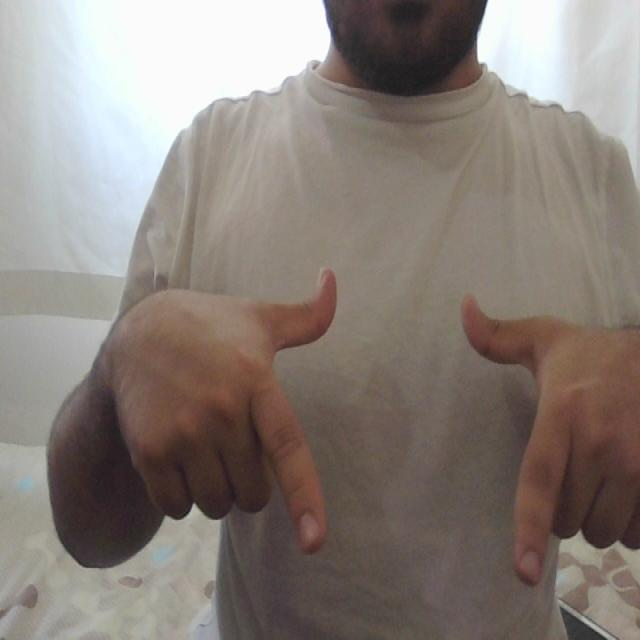Nerede: (237, 261, 579, 606)
